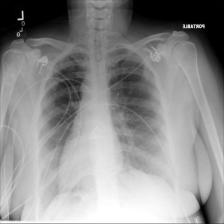normal: (34, 42, 174, 190)
